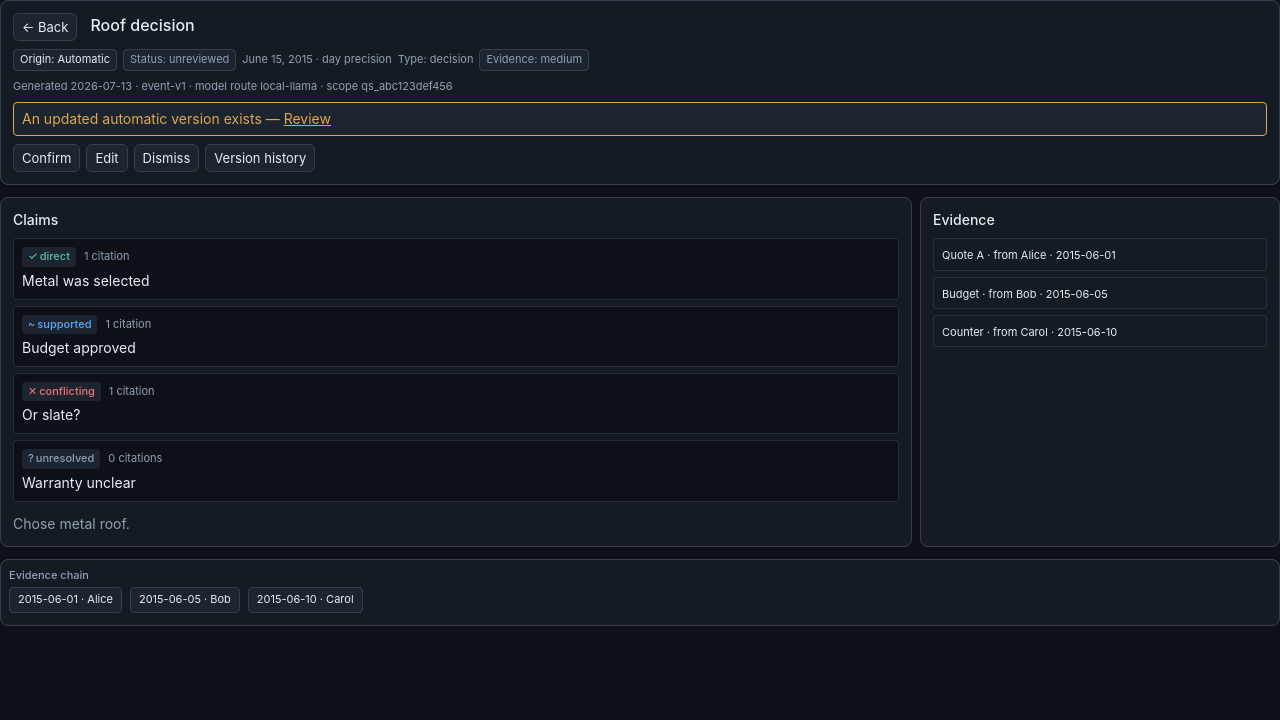
Test: ReconstructionView › conflicting claim shows both chains under Supporting/Conflicting headings
The image size is (1280, 720).
Expected: the element with test id "claim-matrix" is shown, [0,197,912,547]
Click the button with test id "claim-matrix-row": click(61, 392) [13,373,899,434]
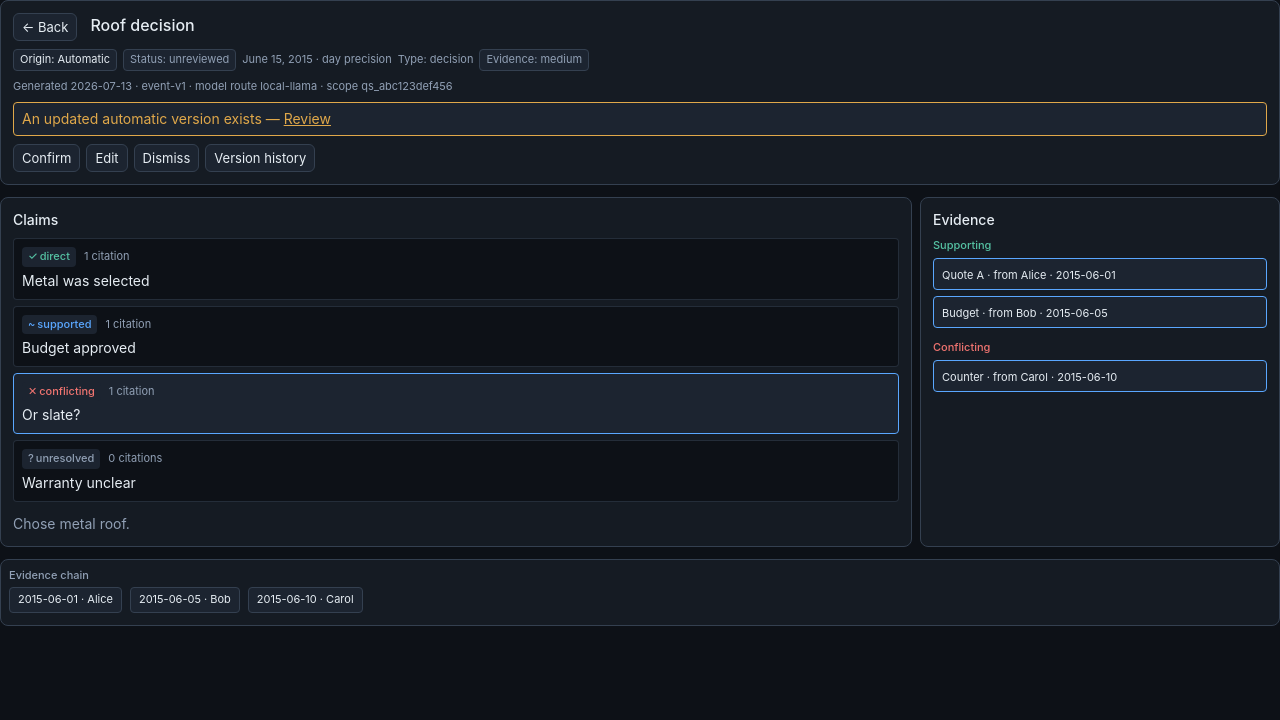
Expected: the element with test id "conflict-chains" is shown, [933,238,1267,392]
Expected: the heading with test id "supporting-heading" reads "Supporting", [933,238,991,252]
Expected: the heading with test id "conflicting-heading" reads "Conflicting", [933,340,990,354]
